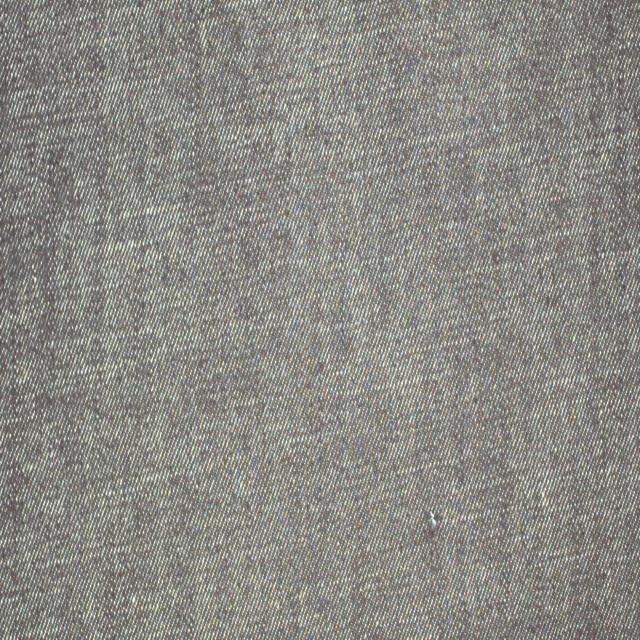Knot: (428, 512, 439, 532)
